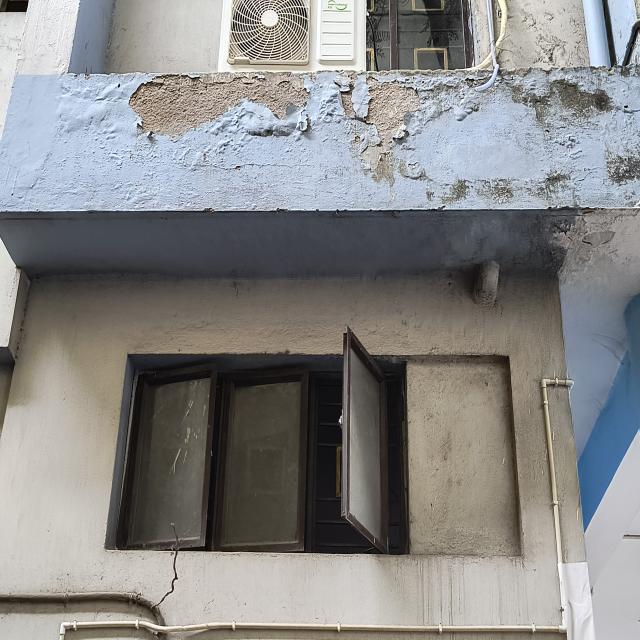peeling: (130, 72, 481, 194)
stain_mould: (414, 64, 640, 212)
